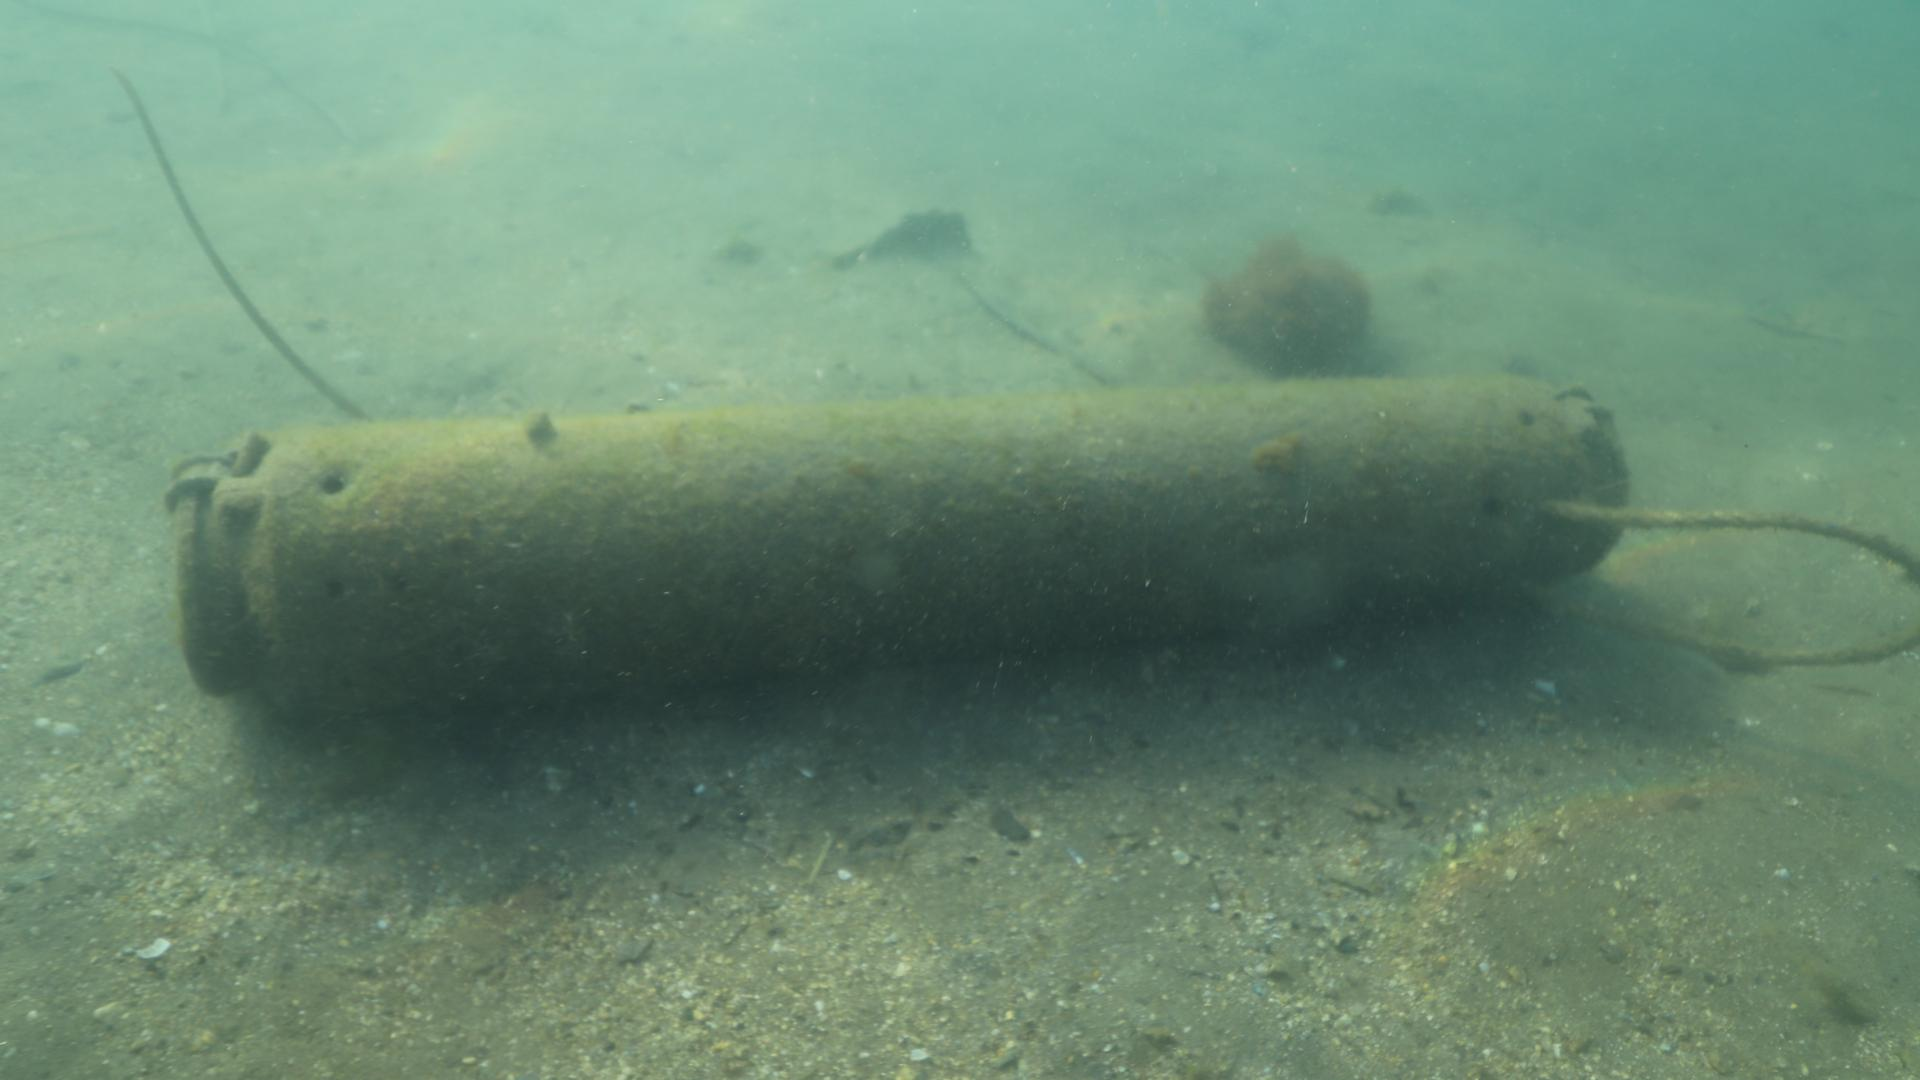eel fish trap: (165, 375, 1630, 723)
rope: (1514, 488, 1920, 682)
